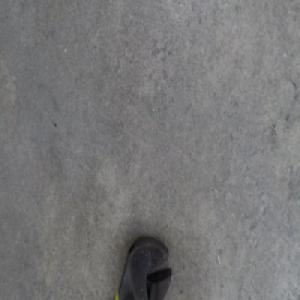AdjustableWrench: (114, 237, 172, 298)
